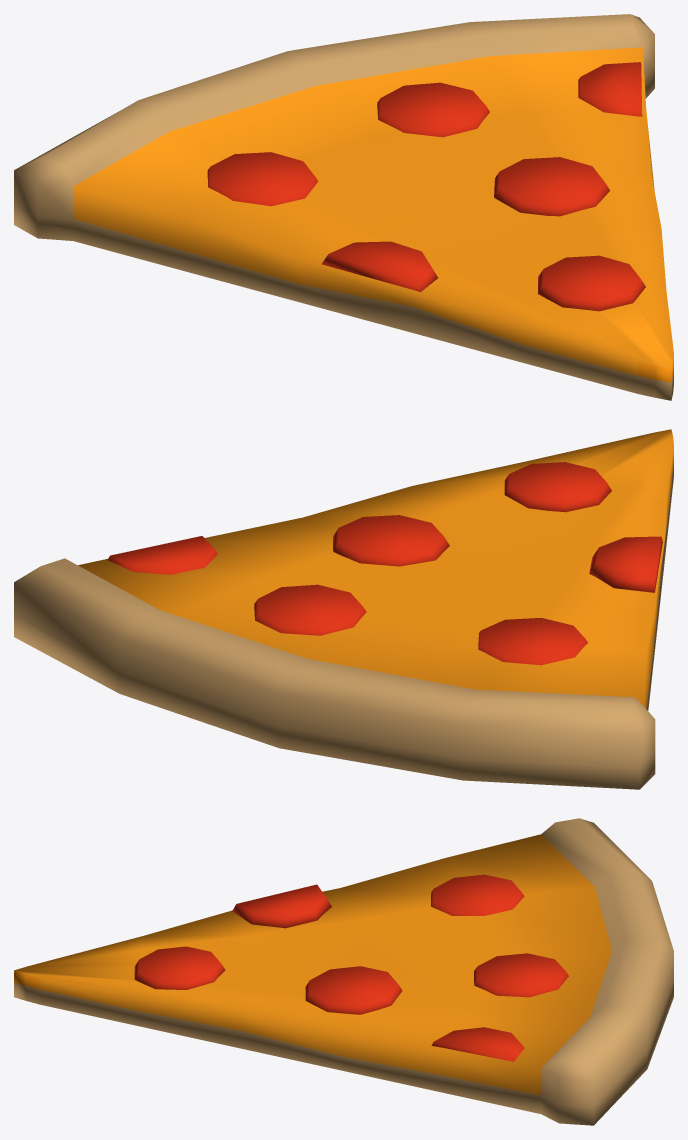
The model's file is PizzaSlice.fbx.
3 renders of one model, top to bottom at view 1: azimuth 30°, elevation 25°; view 2: azimuth 150°, elevation 25°; view 3: azimuth 270°, elevation 25°, orthographic. The views are drawn at different scales.
Parts seen in each view (by area): view 1: Pizza_Slice; view 2: Pizza_Slice; view 3: Pizza_Slice.
Boxes of the visible parts, x1=… form: Pizza_Slice: x1=14, y1=14, x2=673, y2=400; Pizza_Slice: x1=14, y1=429, x2=673, y2=789; Pizza_Slice: x1=14, y1=818, x2=673, y2=1125.
Size of the model in its own units: 1.82 by 0.1917 by 1.98.
